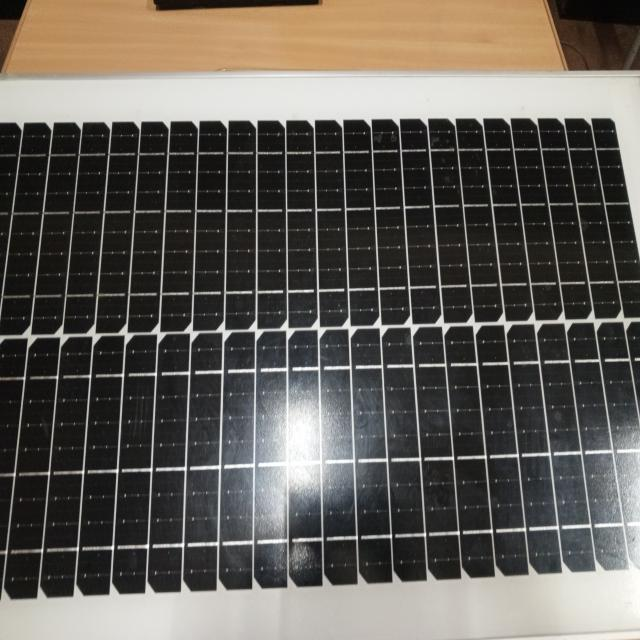Clean: (0, 111, 640, 588)
